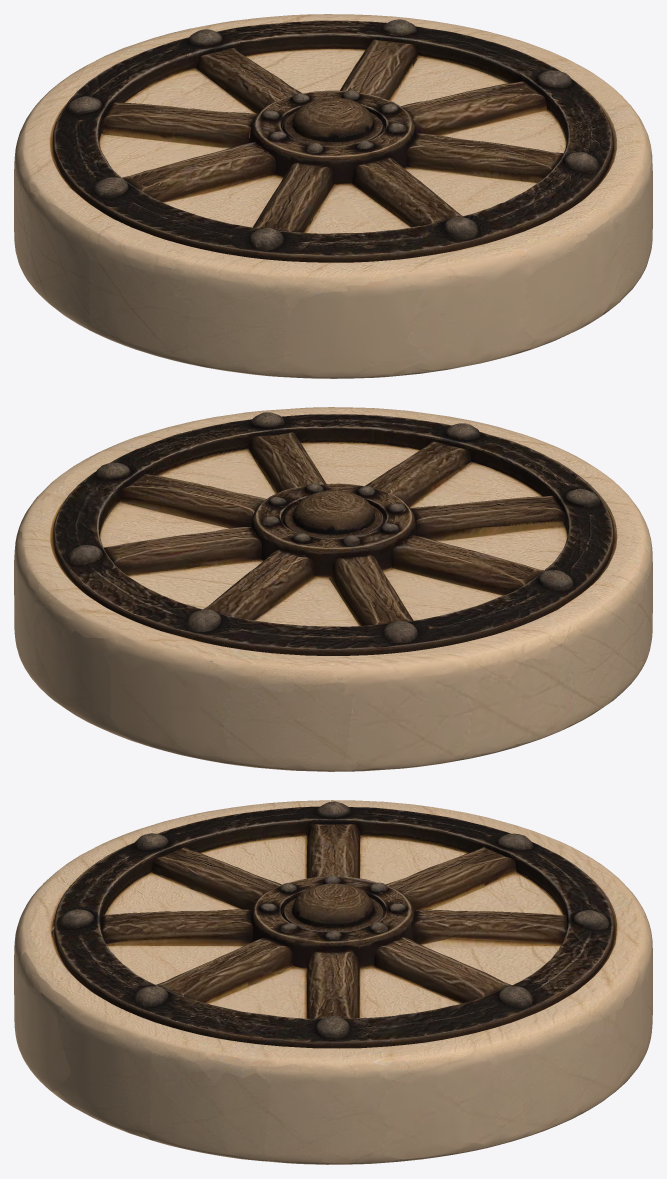
File: ROUE.glb
3 renders of one model, top to bottom at view 1: azimuth 30°, elevation 25°; view 2: azimuth 150°, elevation 25°; view 3: azimuth 270°, elevation 25°, orthographic.
Parts seen in each view (by area): view 1: Mesh_0; view 2: Mesh_0; view 3: Mesh_0.
Part boxes in pixels (box(x1,y1,x2,y2)): Mesh_0: box(14, 14, 652, 378); Mesh_0: box(14, 407, 652, 771); Mesh_0: box(14, 800, 652, 1164).
Bounding box in the file's own units: 1.9 × 0.4691 × 1.9.
Materials: 1 (1 with a texture image).
